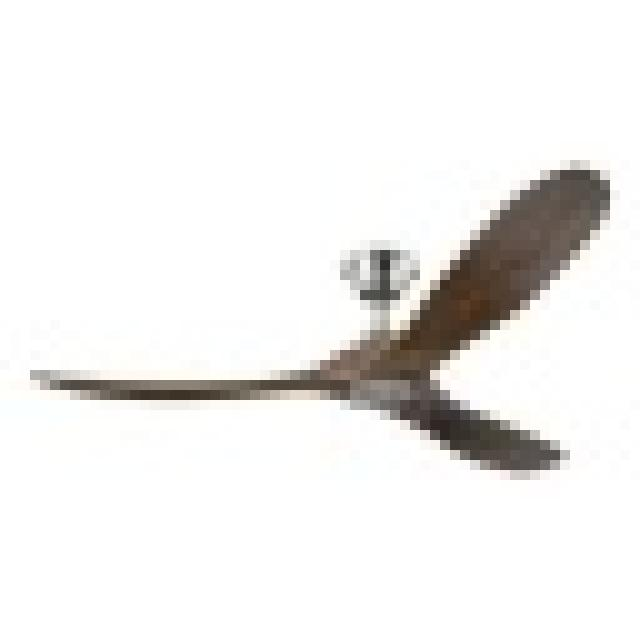Bulb: (10, 190, 640, 530)
